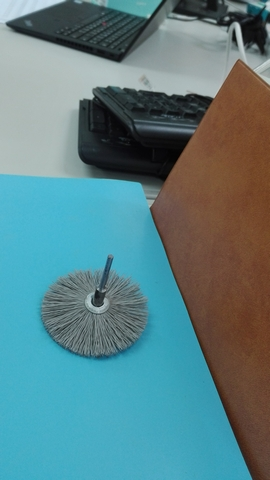TOOL: (28, 216, 150, 372), (31, 243, 170, 364), (42, 258, 156, 370)
